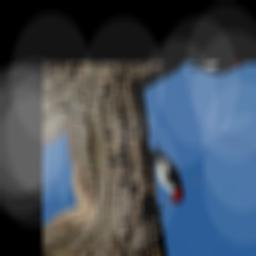Woodpecker: (124, 135, 204, 217)
